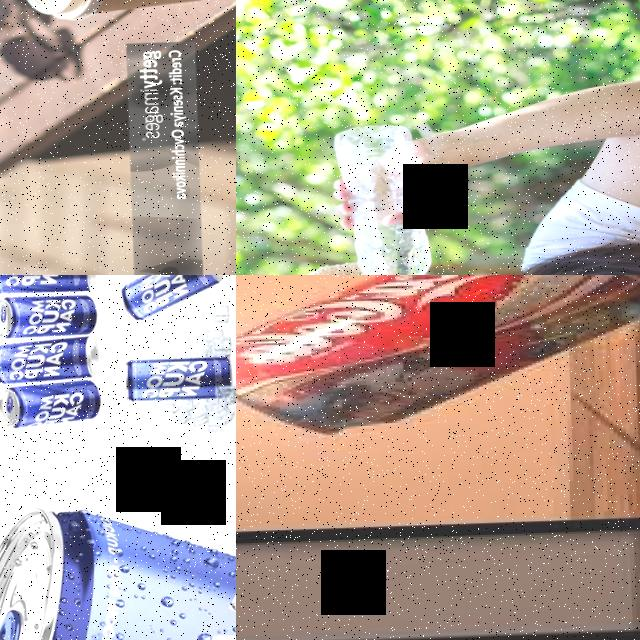bottle: (328, 119, 436, 275)
can: (236, 275, 640, 440), (0, 496, 236, 640), (123, 352, 234, 402), (0, 377, 100, 429), (116, 275, 227, 321), (0, 335, 99, 384), (0, 292, 97, 338), (0, 275, 100, 293)
cup: (13, 0, 234, 23)
